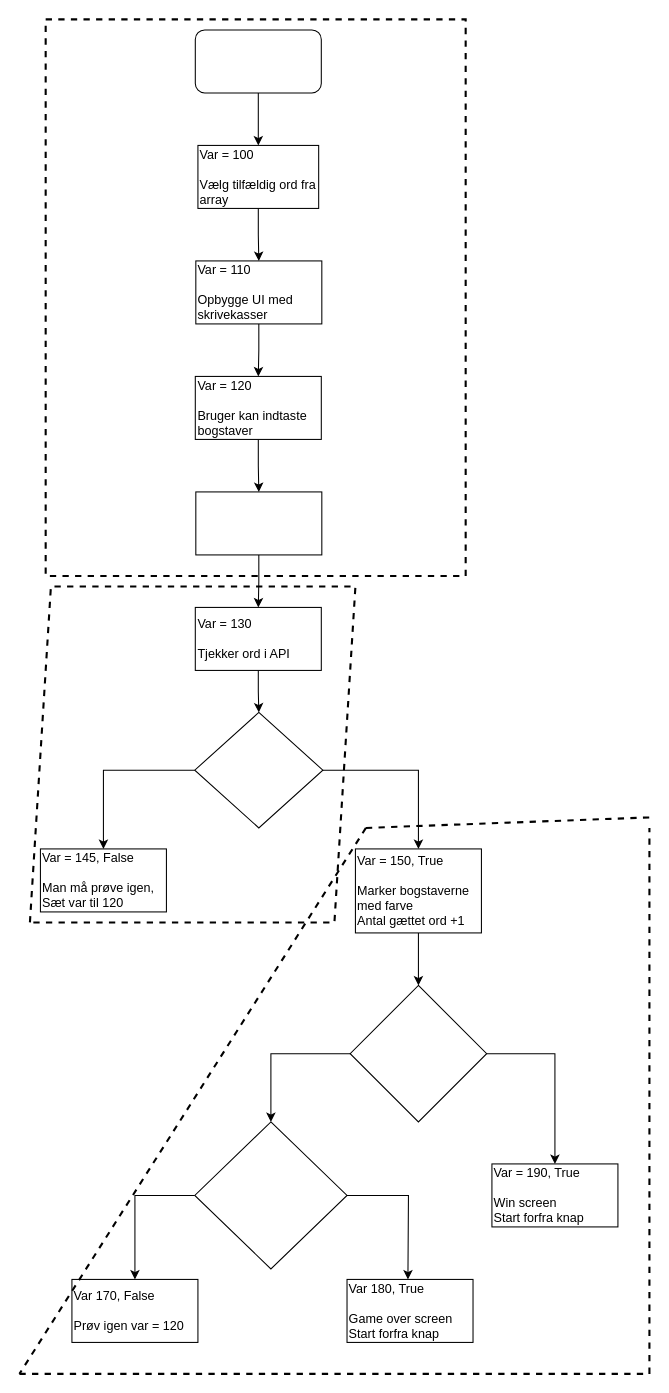
This 669x1393 diagram has some shape labels left out. Each missing label, with the centre of its shape:
"Start spil knap" belongs at (257,61).
"Var = 130 Bruger godkender indtastet ord" belongs at (258,523).
"Var = 140 Hvis ordet er et ord" belongs at (258,769).
"Var = 165, False Hvis der er gættet mere end 5 ord" belongs at (270,1195).
"Var =160 Hvis alle bokstaver er grønne" belongs at (418,1053).
